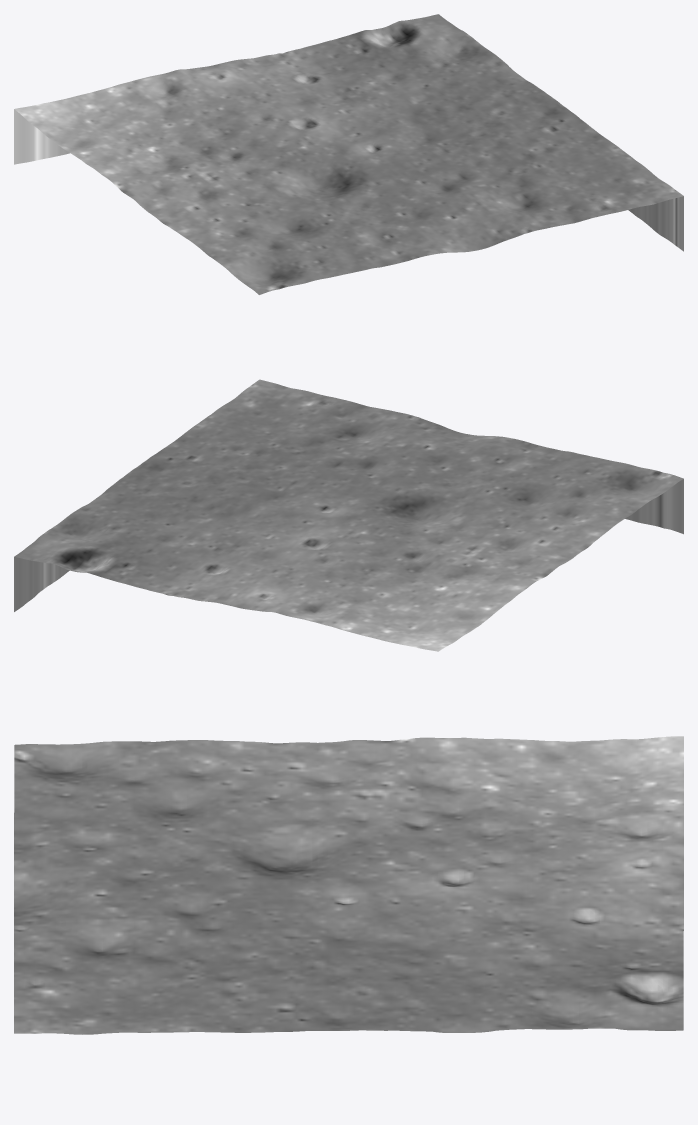
3 renders of one model, top to bottom at view 1: azimuth 30°, elevation 25°; view 2: azimuth 150°, elevation 25°; view 3: azimuth 270°, elevation 25°, orthographic. The views are drawn at different scales.
Bounding box in the file's own units: 638 × 102 × 639.
1 material, 1 textured.
